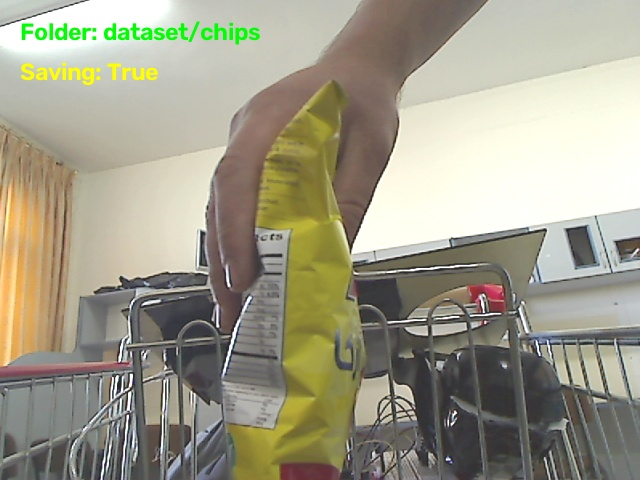chips: (223, 82, 364, 479)
